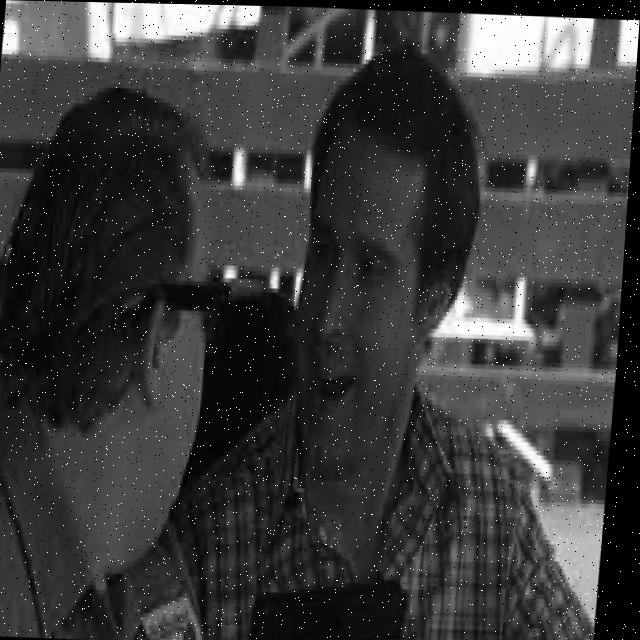pistol: (257, 564, 421, 640)
